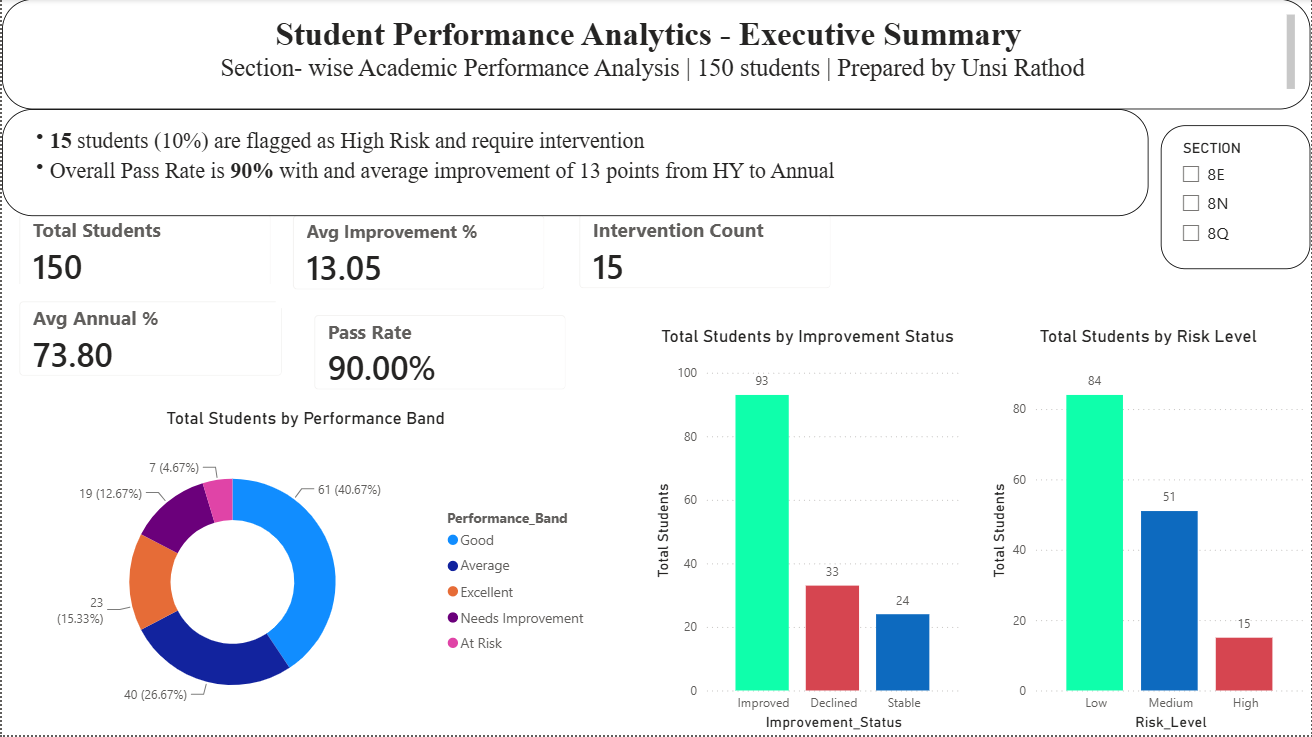

The page's visual inventory and layout, read from the dashboard file:
{"tool":"powerbi","page":{"name":"Executive Summary","canvas":[1280,720],"ordinal":0},"visuals":[{"type":"cardVisual","fields":{"Data":["student_performance_feature_engineered.Total Students"]},"box":[0,193.2,280,107.6],"z":0},{"type":"cardVisual","fields":{"Data":["student_performance_feature_engineered.Avg Annual %"]},"box":[0,278.8,291,107.6],"z":1000},{"type":"cardVisual","fields":{"Data":["student_performance_feature_engineered.Pass Rate"]},"box":[288.6,292.3,280,107.6],"z":2000},{"type":"cardVisual","fields":{"Data":["student_performance_feature_engineered.Avg Improvement %"]},"box":[267.8,194.4,280,107.6],"z":3000},{"type":"cardVisual","fields":{"Data":["student_performance_feature_engineered.Intervention Count"]},"box":[547.8,193.2,280,107.6],"z":4000},{"type":"donutChart","title":"Total Students by Performance Band","fields":{"Category":["student_performance_feature_engineered.Performance_Band"],"Y":["student_performance_feature_engineered.Total Students"]},"box":[11,399.9,572.3,310.6],"z":5000},{"type":"columnChart","title":"Total Students by Risk Level","fields":{"Category":["student_performance_feature_engineered.Risk_Level"],"Y":["student_performance_feature_engineered.Total Students"]},"box":[962.4,319.2,317.9,401.1],"z":6000},{"type":"clusteredColumnChart","title":"Total Students by Improvement Status","fields":{"Category":["student_performance_feature_engineered.Improvement_Status"],"Y":["student_performance_feature_engineered.Total Students"]},"box":[633.4,318.9,309.4,401.1],"z":7000},{"type":"slicer","fields":{"Values":["student_performance_feature_engineered.SECTION"]},"box":[1133.6,107.6,146.7,140.6],"z":8000},{"type":"textbox","box":[0,100.3,1121.3,105.2],"z":9000},{"type":"textbox","box":[0,0,1280.3,100.3],"z":10000}]}

Visuals, with their boxes in screenshot pixels (x1, y1, x2, y2), scaled from the page's 1280x720 canvas onto the 1312x737 screenshot:
cardVisual - student_performance_feature_engineered.Total Students: <box>0,198,287,308</box>
cardVisual - student_performance_feature_engineered.Avg Annual %: <box>0,285,298,396</box>
cardVisual - student_performance_feature_engineered.Pass Rate: <box>296,299,583,409</box>
cardVisual - student_performance_feature_engineered.Avg Improvement %: <box>274,199,561,309</box>
cardVisual - student_performance_feature_engineered.Intervention Count: <box>561,198,848,308</box>
"Total Students by Performance Band" donutChart: <box>11,409,598,727</box>
"Total Students by Risk Level" columnChart: <box>986,327,1311,736</box>
"Total Students by Improvement Status" clusteredColumnChart: <box>649,326,966,736</box>
slicer - student_performance_feature_engineered.SECTION: <box>1162,110,1311,254</box>
textbox: <box>0,103,1149,210</box>
textbox: <box>0,0,1311,103</box>
